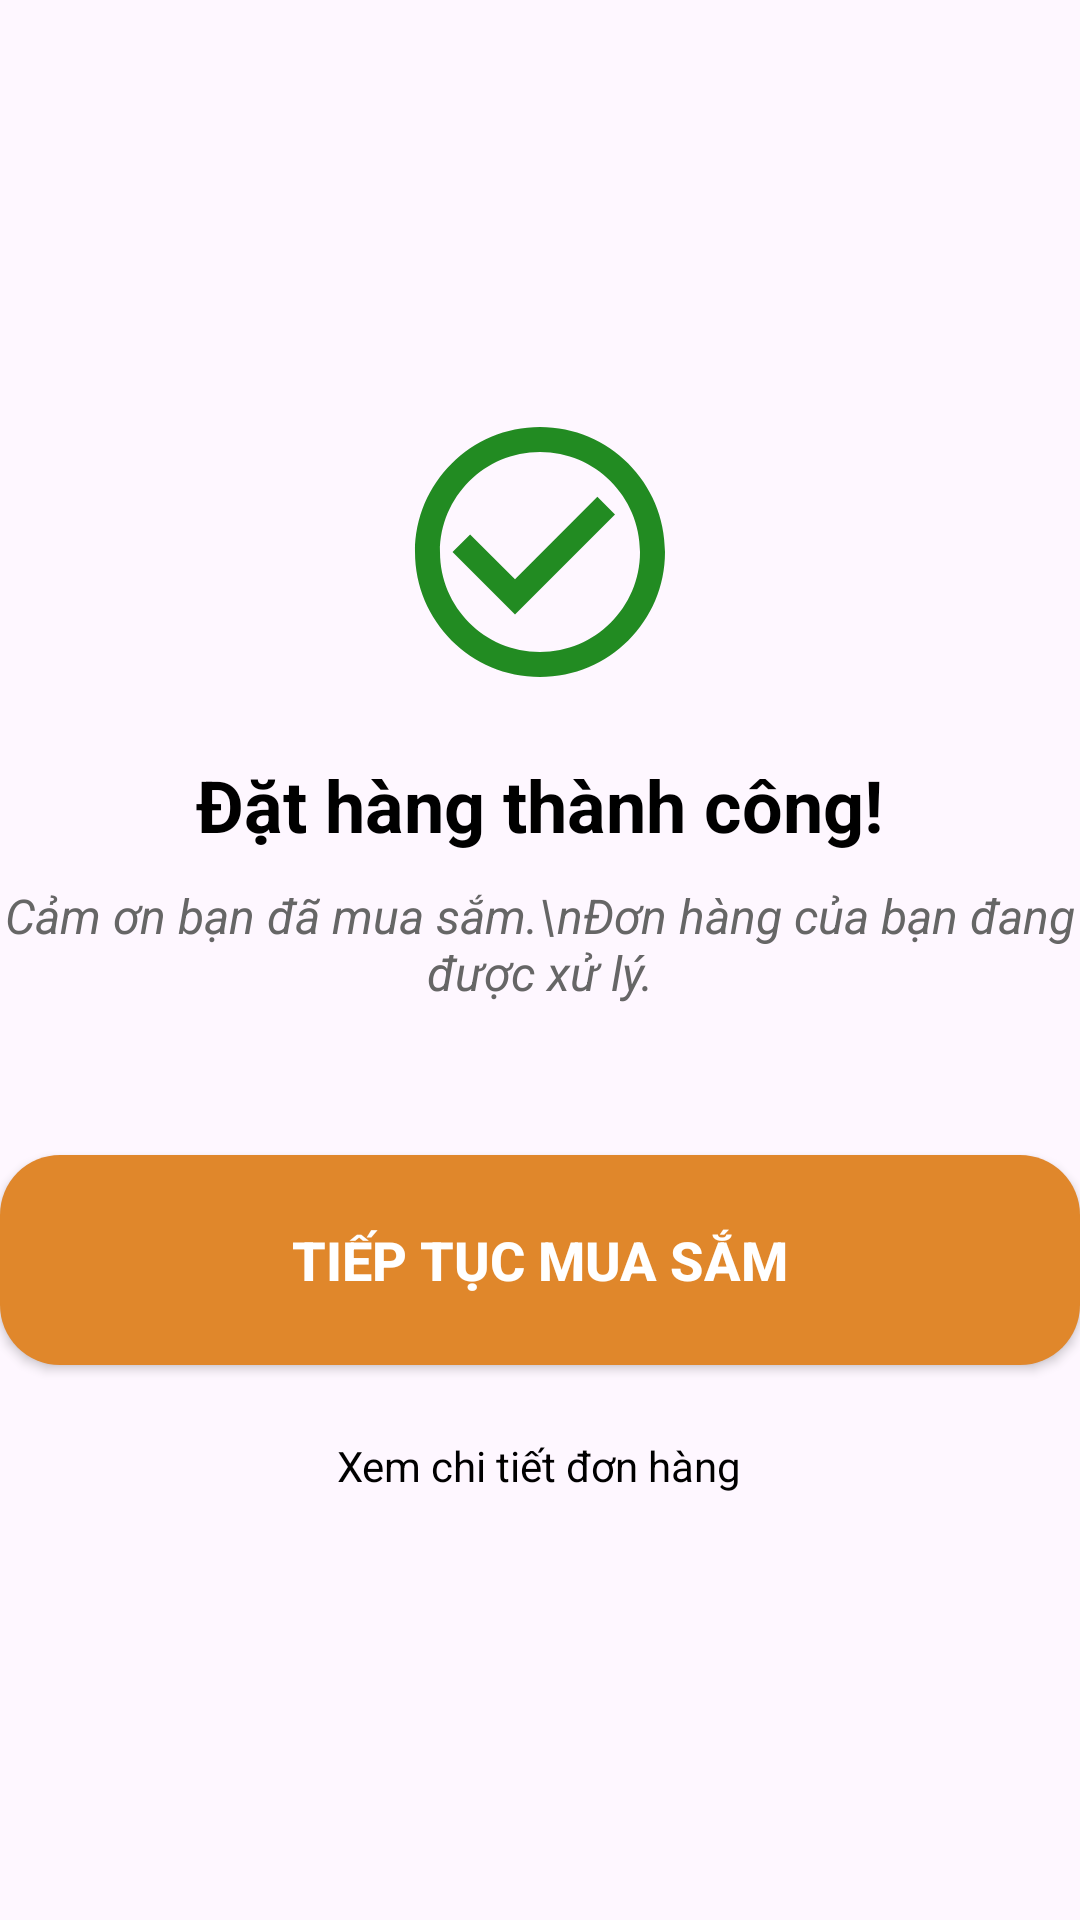

Icons on this 1080*1920 Android screen, each with the point to tap as (x=x, y=y):
check circle: (x=540, y=552)
